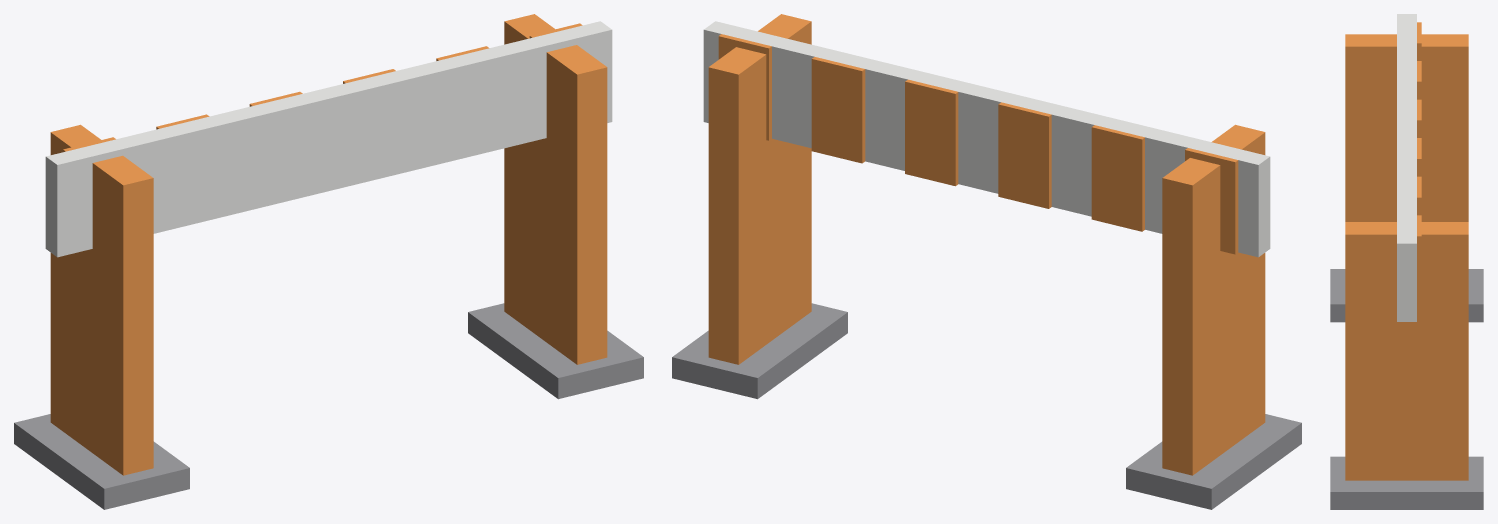
The model's file is bt-traffic-barrier.glb.
The picture shows the model from 3 angles, left to right: view 1: azimuth 30°, elevation 25°; view 2: azimuth 150°, elevation 25°; view 3: azimuth 270°, elevation 25°; orthographic projection. The views are drawn at different scales.
Visible parts, largest first — view 1: board, leg_0.9, leg_-0.9, foot_-0.9, foot_0.9; view 2: board, leg_0.9, leg_-0.9, foot_-0.9, foot_0.9, stripe_4, stripe_1, stripe_2, stripe_3, stripe_0, stripe_5; view 3: leg_0.9, leg_-0.9, board, foot_0.9, foot_-0.9, stripe_5, stripe_4, stripe_0, stripe_1, stripe_2, stripe_3.
Part boxes in pixels (<box>): board: <box>45,21,612,257</box>; leg_0.9: <box>504,14,607,364</box>; leg_-0.9: <box>50,124,153,475</box>; foot_-0.9: <box>14,414,189,509</box>; foot_0.9: <box>468,303,643,399</box>; board: <box>703,21,1270,257</box>; leg_0.9: <box>708,14,811,364</box>; leg_-0.9: <box>1162,124,1265,475</box>; foot_-0.9: <box>1126,414,1301,509</box>; foot_0.9: <box>672,303,847,399</box>; stripe_4: <box>811,57,865,163</box>; stripe_1: <box>1091,125,1144,231</box>; stripe_2: <box>998,102,1051,208</box>; stripe_3: <box>905,79,958,186</box>; stripe_0: <box>1185,148,1238,254</box>; stripe_5: <box>718,34,771,140</box>; leg_0.9: <box>1345,222,1468,480</box>; leg_-0.9: <box>1345,34,1468,221</box>; board: <box>1397,14,1416,321</box>; foot_0.9: <box>1330,456,1483,509</box>; foot_-0.9: <box>1330,269,1483,322</box>; stripe_5: <box>1417,215,1421,314</box>; stripe_4: <box>1417,176,1421,215</box>; stripe_0: <box>1417,22,1421,60</box>; stripe_1: <box>1417,61,1421,99</box>; stripe_2: <box>1417,99,1421,137</box>; stripe_3: <box>1417,138,1421,176</box>.
Bounding box in the file's own units: 2.2 × 1.2 × 0.62.
